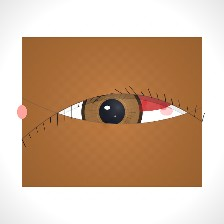hemorrhage_spot: (97, 64, 187, 135)
